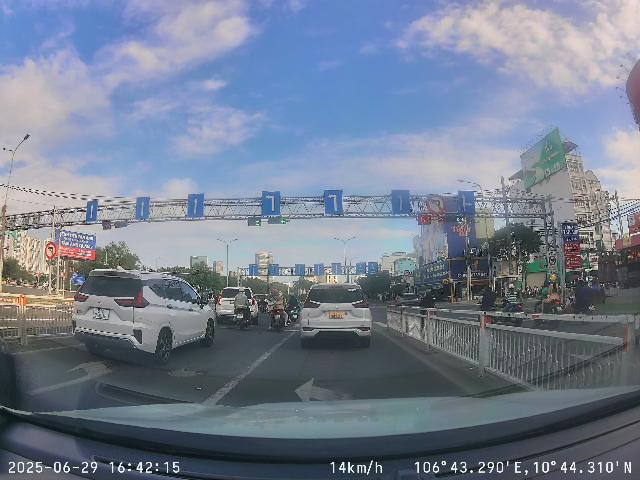123a-cam-re-trai: (426, 194, 446, 214)
